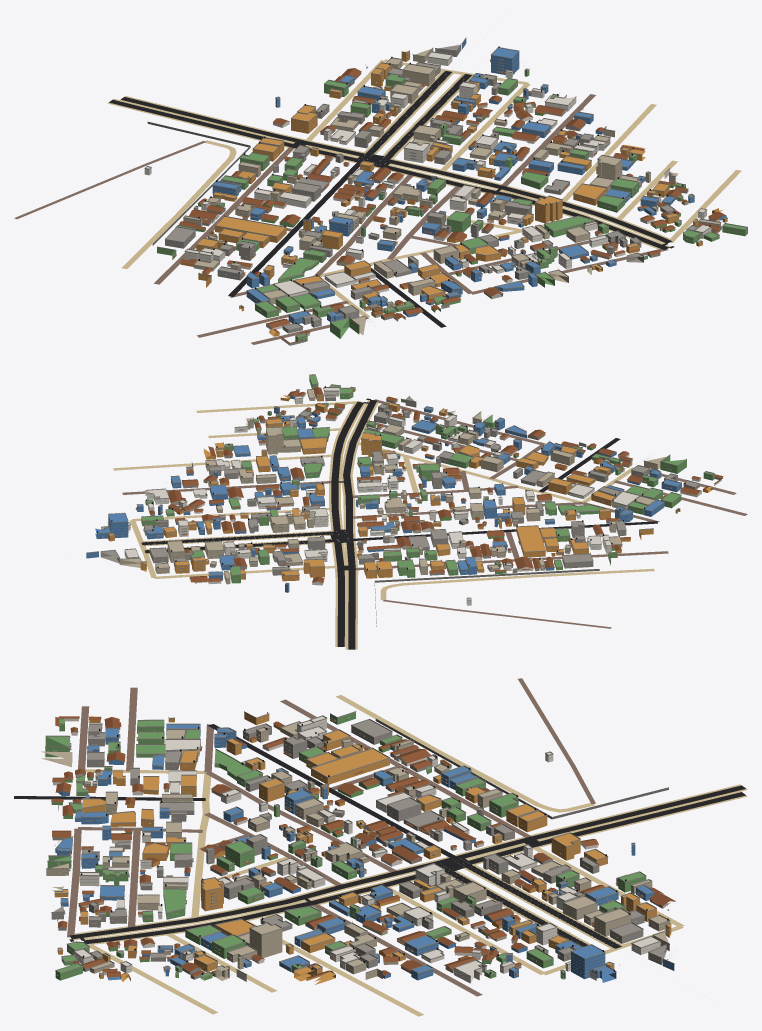
Rendered from zone_t3_2.glb.
3 renders of one model, top to bottom at view 1: azimuth 30°, elevation 25°; view 2: azimuth 150°, elevation 25°; view 3: azimuth 270°, elevation 25°, orthographic. The views are drawn at different scales.
Parts seen in each view (by area): view 1: parapet_t3_2, bld_peinture_ocre_t3_2-col, bld_peinture_vert_t3_2-col, bld_peinture_bleu_t3_2-col, bld_peinture_ecaillee_t3_2-col, toit_tole_t3_2, bld_beton_t3_2-col, bld_peinture_blanc_t3_2-col, route_primary_bitume_t3_2, route_residential_paves_t3_2, accotement_t3_2, route_residential_terre_t3_2 (+7 smaller); view 2: parapet_t3_2, bld_peinture_ocre_t3_2-col, bld_peinture_ecaillee_t3_2-col, bld_peinture_bleu_t3_2-col, toit_tole_t3_2, bld_peinture_vert_t3_2-col, bld_beton_t3_2-col, bld_peinture_blanc_t3_2-col, route_primary_bitume_t3_2, accotement_t3_2, route_residential_paves_t3_2, bandeau_t3_2 (+7 smaller); view 3: parapet_t3_2, bld_peinture_ocre_t3_2-col, bld_peinture_vert_t3_2-col, bld_peinture_ecaillee_t3_2-col, bld_peinture_bleu_t3_2-col, toit_tole_t3_2, bld_beton_t3_2-col, bld_peinture_blanc_t3_2-col, route_residential_paves_t3_2, route_primary_bitume_t3_2, accotement_t3_2, bandeau_t3_2 (+8 smaller).
Boxes of the visible parts, <box> form: parapet_t3_2: <box>144,37,747,337</box>; bld_peinture_ocre_t3_2-col: <box>180,51,727,336</box>; bld_peinture_vert_t3_2-col: <box>157,69,747,341</box>; bld_peinture_bleu_t3_2-col: <box>197,38,726,323</box>; bld_peinture_ecaillee_t3_2-col: <box>183,48,720,334</box>; toit_tole_t3_2: <box>179,68,726,343</box>; bld_beton_t3_2-col: <box>165,45,721,345</box>; bld_peinture_blanc_t3_2-col: <box>144,52,719,345</box>; route_primary_bitume_t3_2: <box>109,97,674,249</box>; route_residential_paves_t3_2: <box>154,94,667,344</box>; accotement_t3_2: <box>107,71,670,249</box>; route_residential_terre_t3_2: <box>305,59,741,242</box>; parapet_t3_2: <box>86,374,714,600</box>; bld_peinture_ocre_t3_2-col: <box>108,388,712,581</box>; bld_peinture_ecaillee_t3_2-col: <box>119,390,665,584</box>; bld_peinture_bleu_t3_2-col: <box>86,396,681,592</box>; toit_tole_t3_2: <box>149,387,723,583</box>; bld_peinture_vert_t3_2-col: <box>141,375,714,583</box>; bld_beton_t3_2-col: <box>100,390,720,583</box>; bld_peinture_blanc_t3_2-col: <box>101,388,721,605</box>; route_primary_bitume_t3_2: <box>331,398,376,649</box>; accotement_t3_2: <box>144,400,378,649</box>; route_residential_paves_t3_2: <box>122,399,747,570</box>; bandeau_t3_2: <box>87,379,713,602</box>; parapet_t3_2: <box>45,711,674,977</box>; bld_peinture_ocre_t3_2-col: <box>54,712,671,984</box>; bld_peinture_vert_t3_2-col: <box>45,712,646,980</box>; bld_peinture_ecaillee_t3_2-col: <box>41,722,669,980</box>; bld_peinture_bleu_t3_2-col: <box>55,724,674,982</box>; toit_tole_t3_2: <box>51,716,675,978</box>; bld_beton_t3_2-col: <box>51,720,670,979</box>; bld_peinture_blanc_t3_2-col: <box>53,716,662,983</box>; route_residential_paves_t3_2: <box>67,687,531,996</box>; route_primary_bitume_t3_2: <box>69,785,745,943</box>; accotement_t3_2: <box>73,784,747,948</box>; bandeau_t3_2: <box>44,715,672,977</box>.
Size of the model in its own units: 655 by 21.9 by 600.
